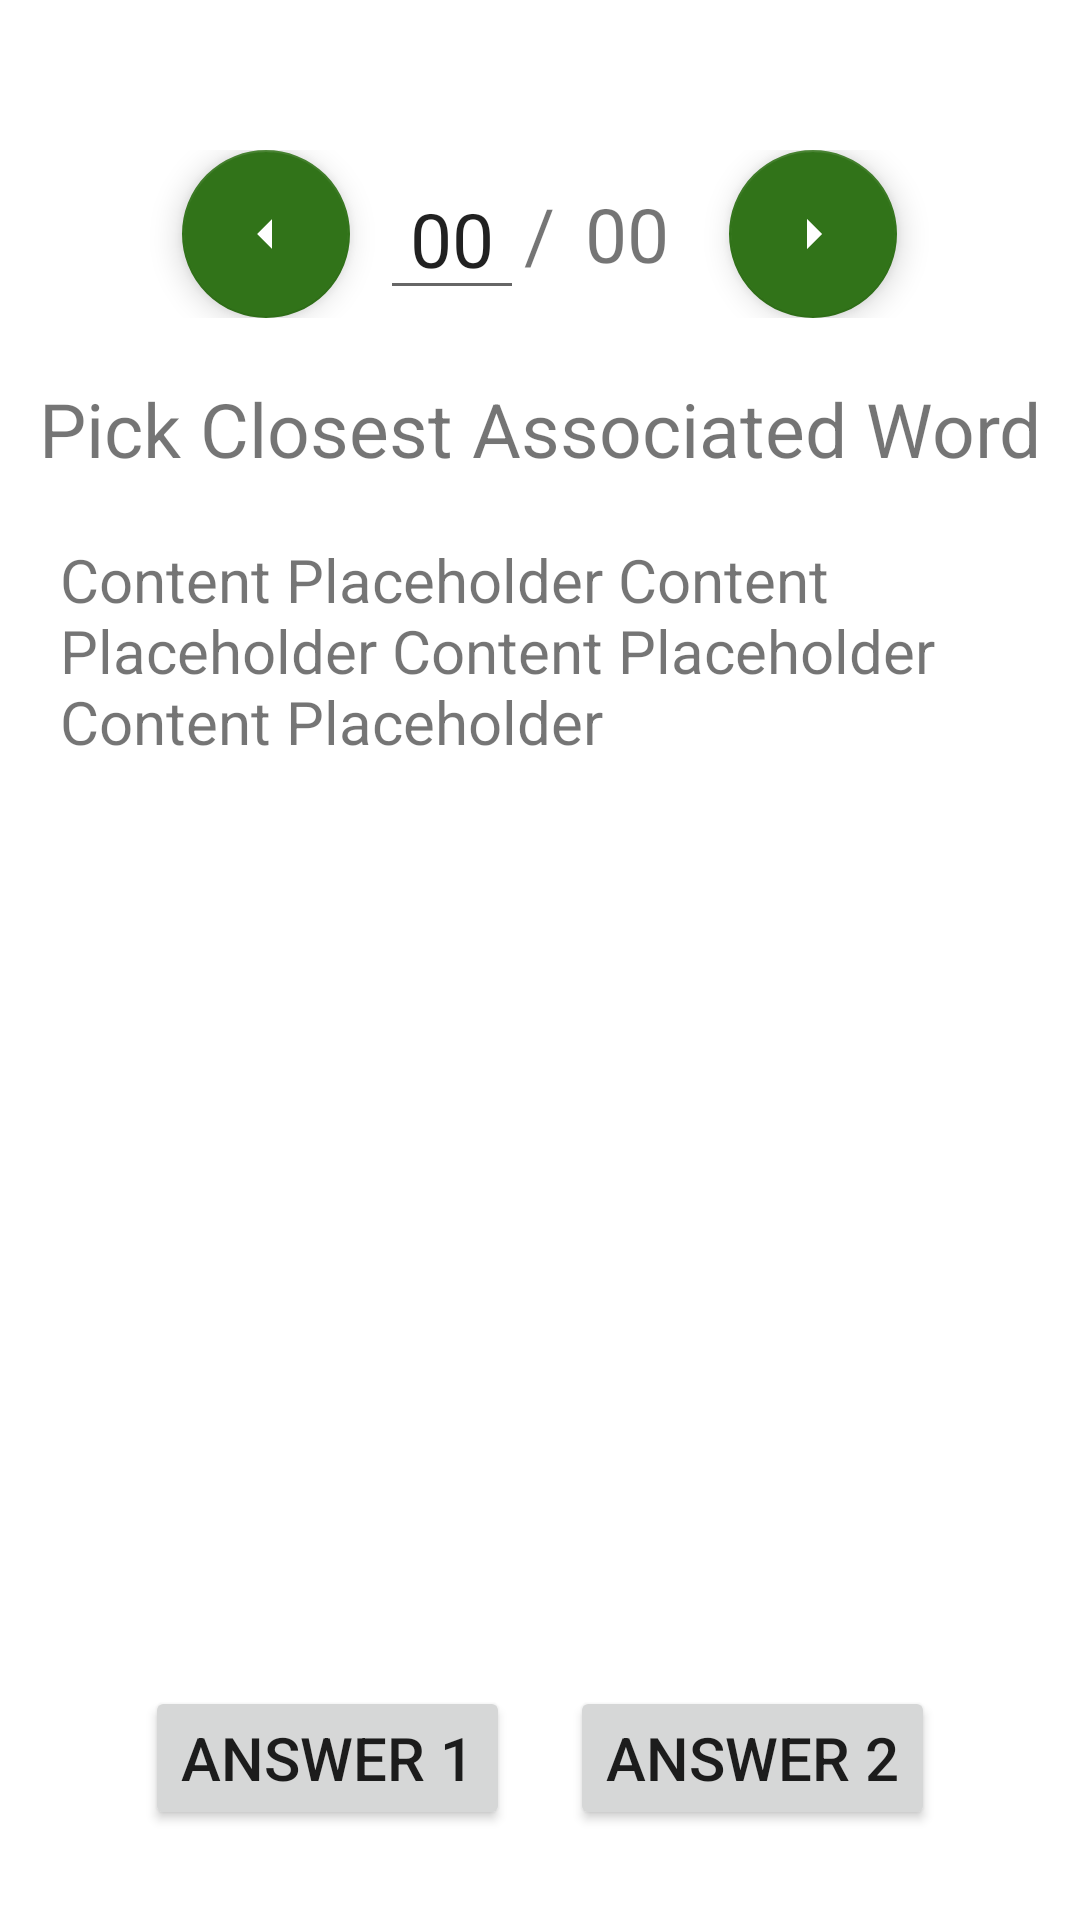

Point at icon controls on the screen. Image size 1080 x 1920, points as (x,y).
Next Question FAB: (813,234)
Prev Question FAB: (266,234)
